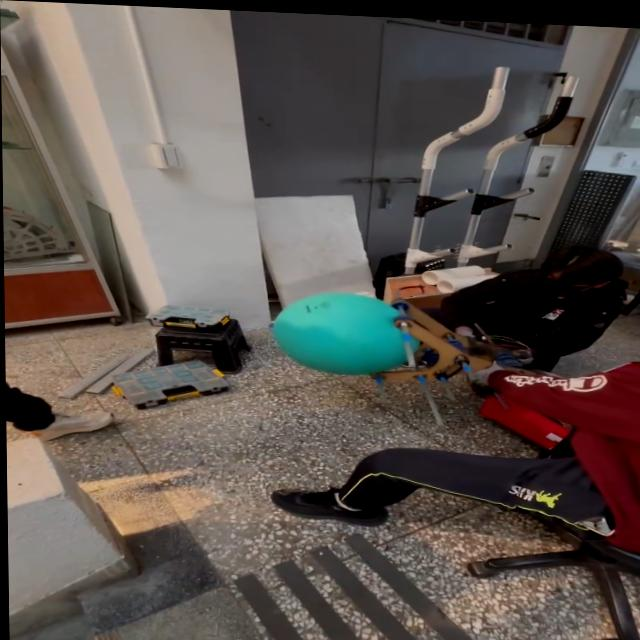ALGAE: (269, 288, 420, 378)
